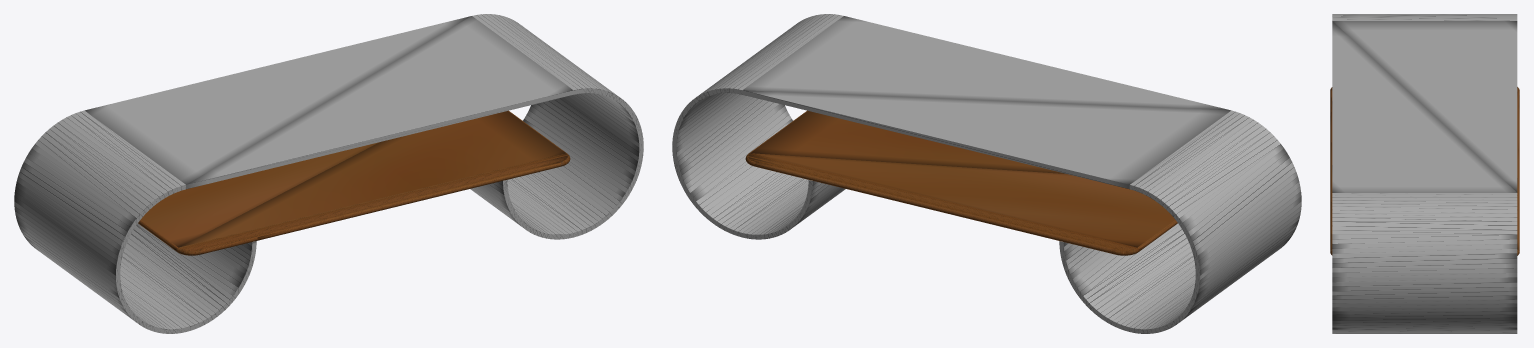
The picture shows the model from 3 angles, left to right: view 1: azimuth 30°, elevation 25°; view 2: azimuth 150°, elevation 25°; view 3: azimuth 270°, elevation 25°; orthographic projection. The views are drawn at different scales.
Visible parts, largest first — view 1: world; view 2: world; view 3: world.
Part boxes in pixels (bbox=[...]): world: bbox=[14, 14, 643, 333]; world: bbox=[672, 14, 1301, 333]; world: bbox=[1330, 14, 1519, 333].
Size of the model in its own units: 1.9 by 0.506 by 0.6483.
1 material, 1 textured.
